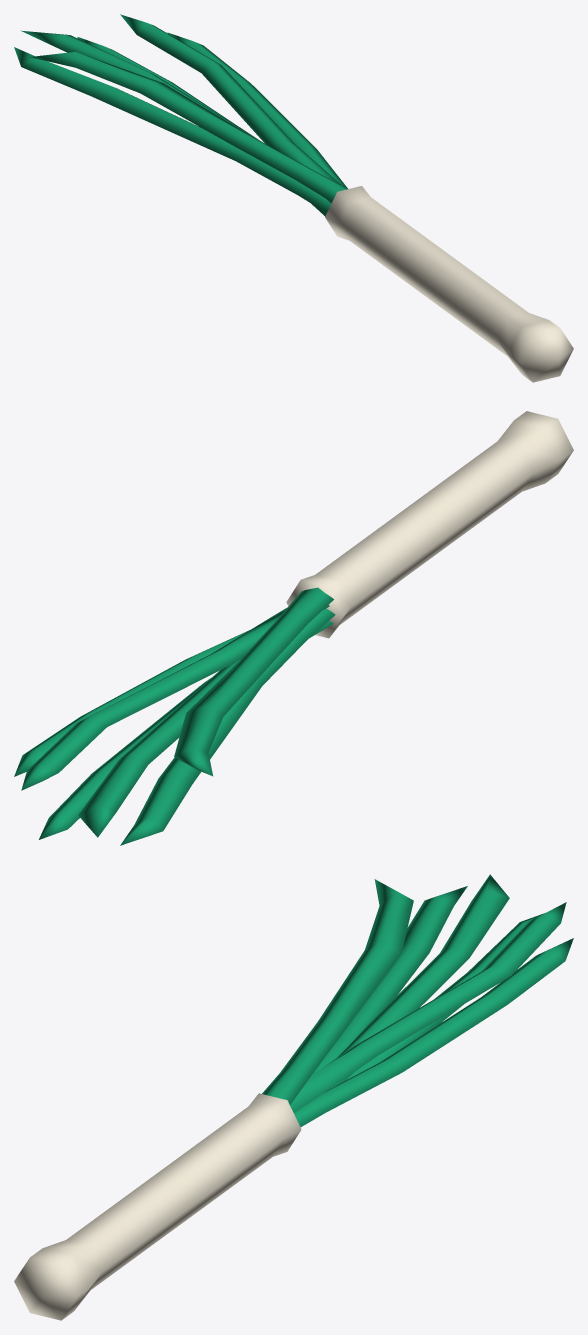
File: Greenonion.fbx
3 views of the same model, one above another, from view 1: azimuth 30°, elevation 25°; view 2: azimuth 150°, elevation 25°; view 3: azimuth 330°, elevation 25° (orthographic). The views are drawn at different scales.
Parts seen in each view (by area): view 1: Greenonion; view 2: Greenonion; view 3: Greenonion.
Part boxes in pixels (left/top/right/bottom): Greenonion: left=14, top=14, right=573, bottom=382; Greenonion: left=14, top=411, right=573, bottom=845; Greenonion: left=14, top=874, right=573, bottom=1320.
Bounding box in the file's own units: 16.75 × 6.02 × 79.03.
